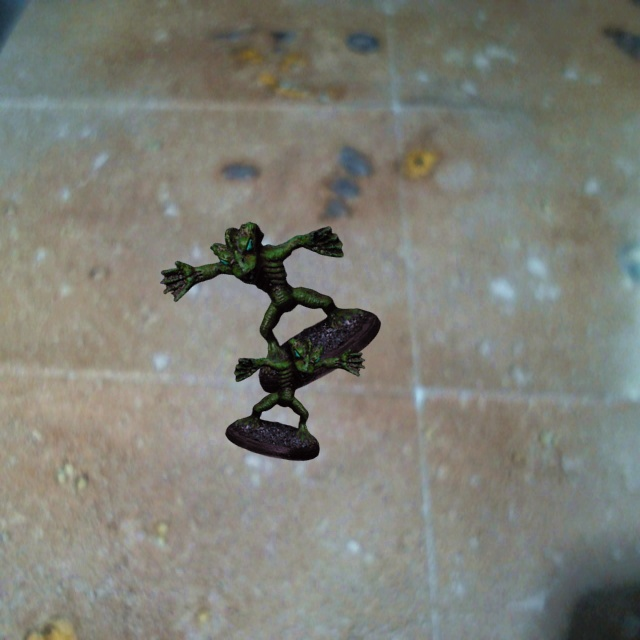pieza_juego: (160, 222, 380, 393), (225, 338, 364, 460)
